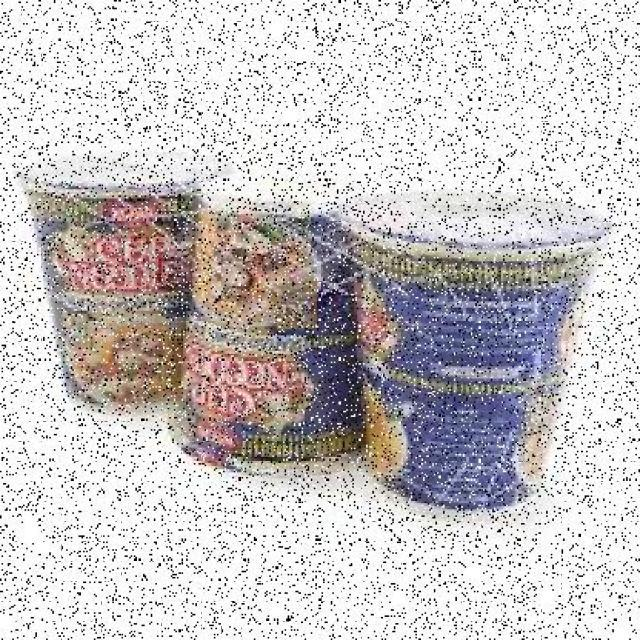Miscellaneous: (337, 182, 597, 527), (188, 163, 394, 479), (32, 138, 232, 420)
